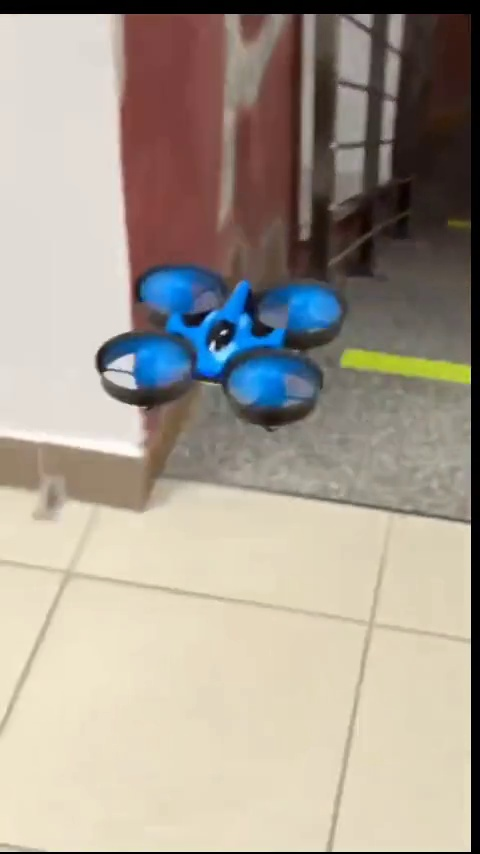drone: (105, 264, 338, 428)
